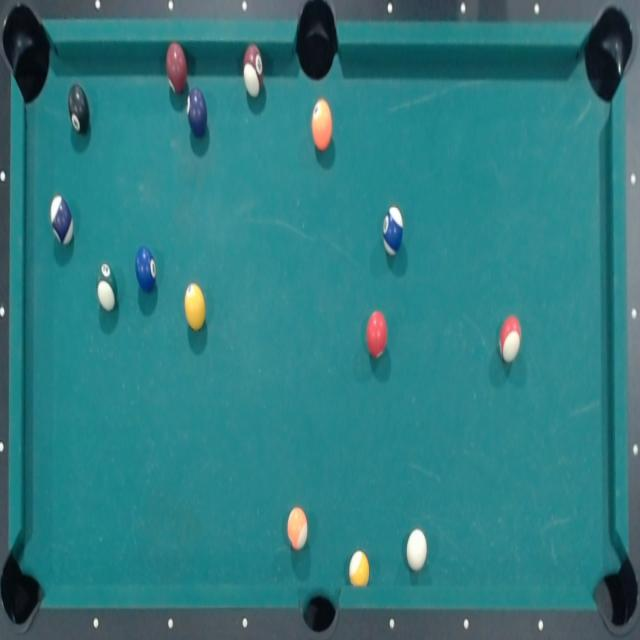black_8ball: (67, 83, 93, 133)
blue_solid: (134, 245, 160, 292)
blue_stripe: (382, 206, 404, 257)
cue_ball: (406, 528, 428, 573)
green_stripe: (96, 263, 120, 315)
maroon_solid: (166, 43, 188, 93)
maroon_stripe: (242, 44, 268, 100)
orange_solid: (310, 97, 335, 153)
orange_stripe: (287, 507, 308, 551)
playr: (186, 86, 208, 138)
purple_solid: (49, 195, 77, 248)
purple_stripe: (365, 310, 389, 360)
red_solid: (498, 313, 522, 364)
red_stripe: (184, 283, 208, 332)
yellow_solid: (349, 550, 370, 588)
